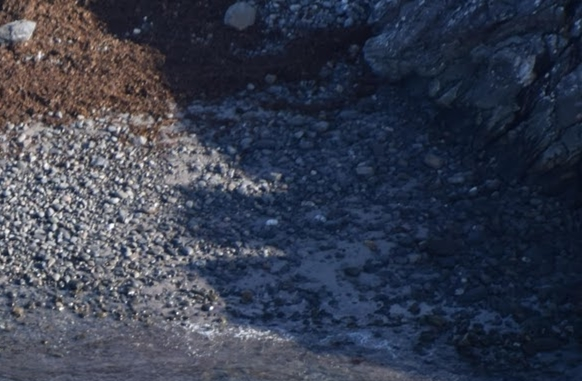stone_litter: (261, 192, 331, 229)
